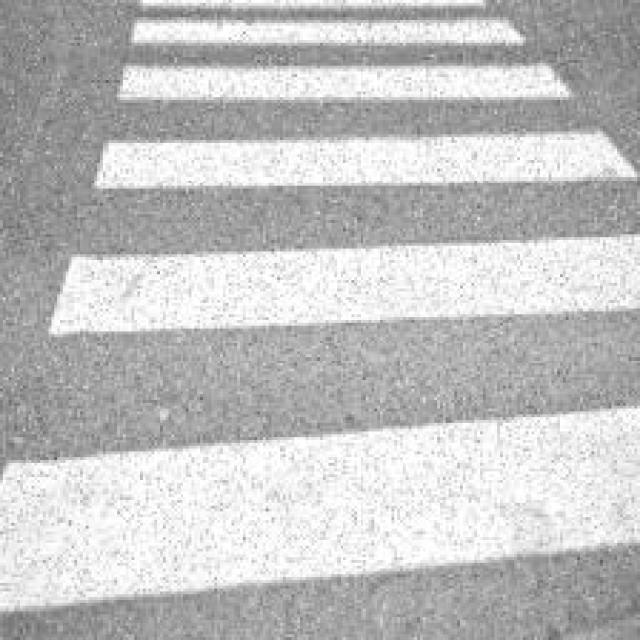crosswalk: (2, 21, 640, 640)
